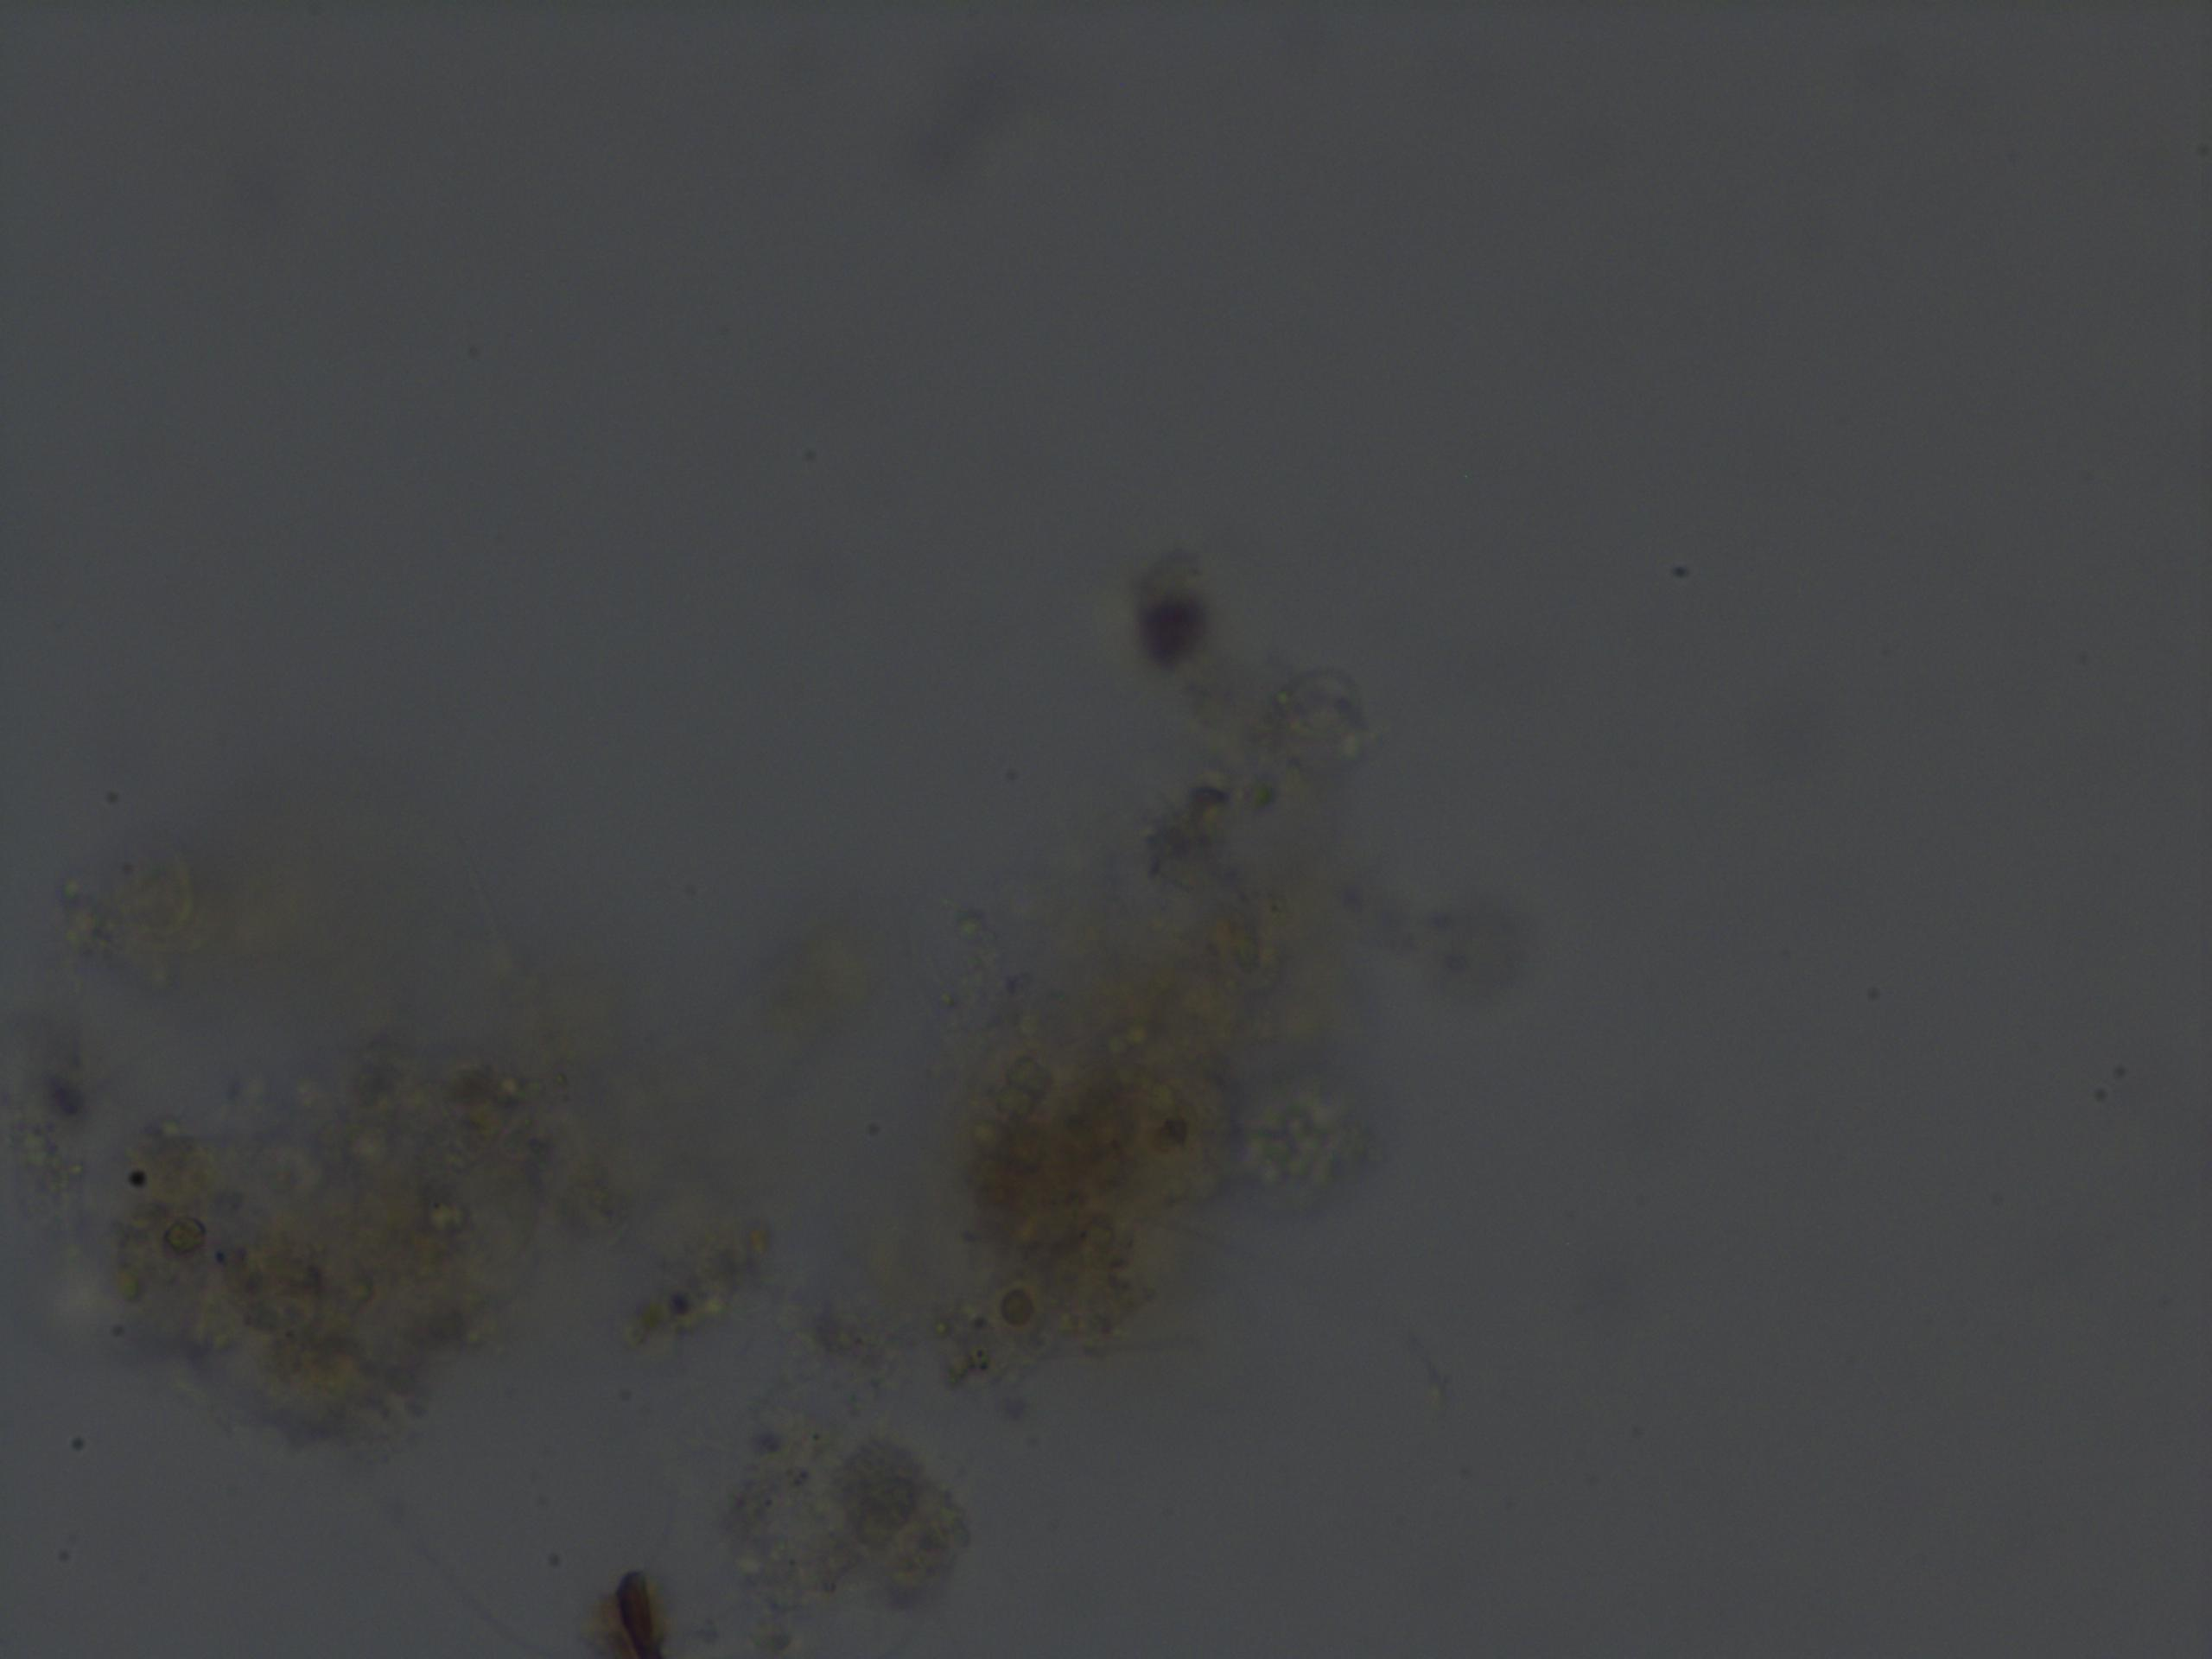open_floc: (0, 545, 1496, 1659)
